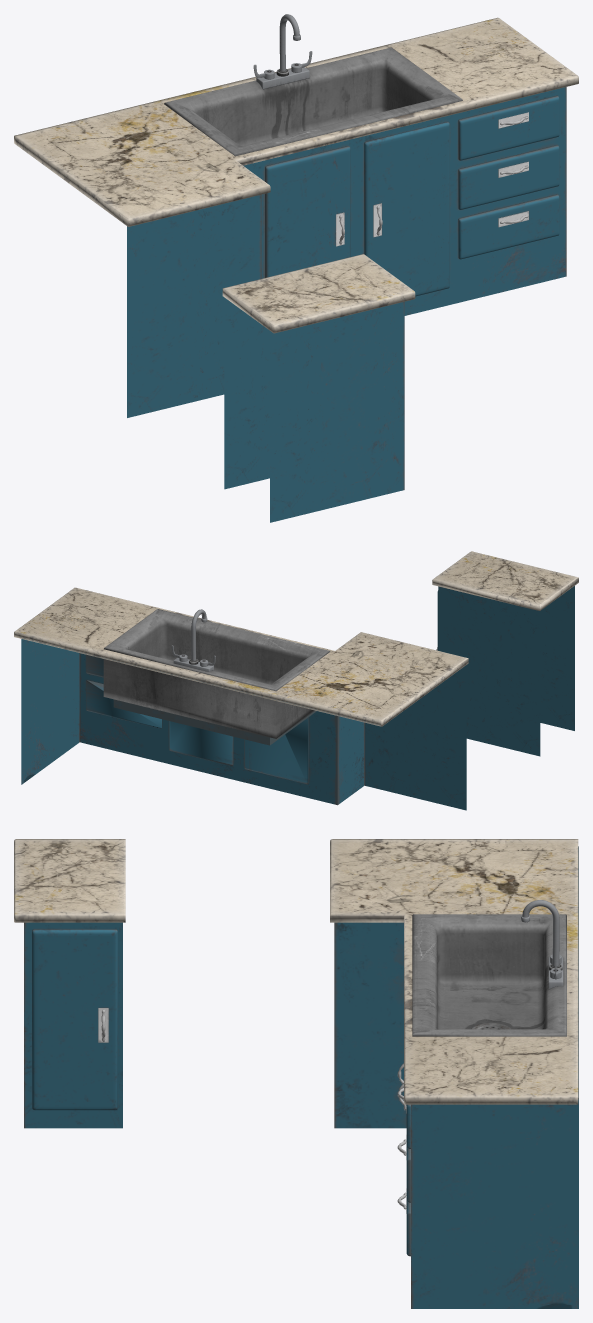
Rendered from SM_KitchenCounterSink.fbx.
3 views of the same model, one above another, from view 1: azimuth 30°, elevation 25°; view 2: azimuth 150°, elevation 25°; view 3: azimuth 270°, elevation 25° (orthographic). The views are drawn at different scales.
Parts seen in each view (by area): view 1: Cylinder; view 2: Cylinder; view 3: Cylinder.
Boxes of the visible parts, x1,y1,x2,y2 form: Cylinder: [14, 14, 578, 522]; Cylinder: [14, 551, 578, 810]; Cylinder: [14, 839, 578, 1308].
Bounding box in the file's own units: 235 × 125 × 218.
Materials: 1 (1 with a texture image).
